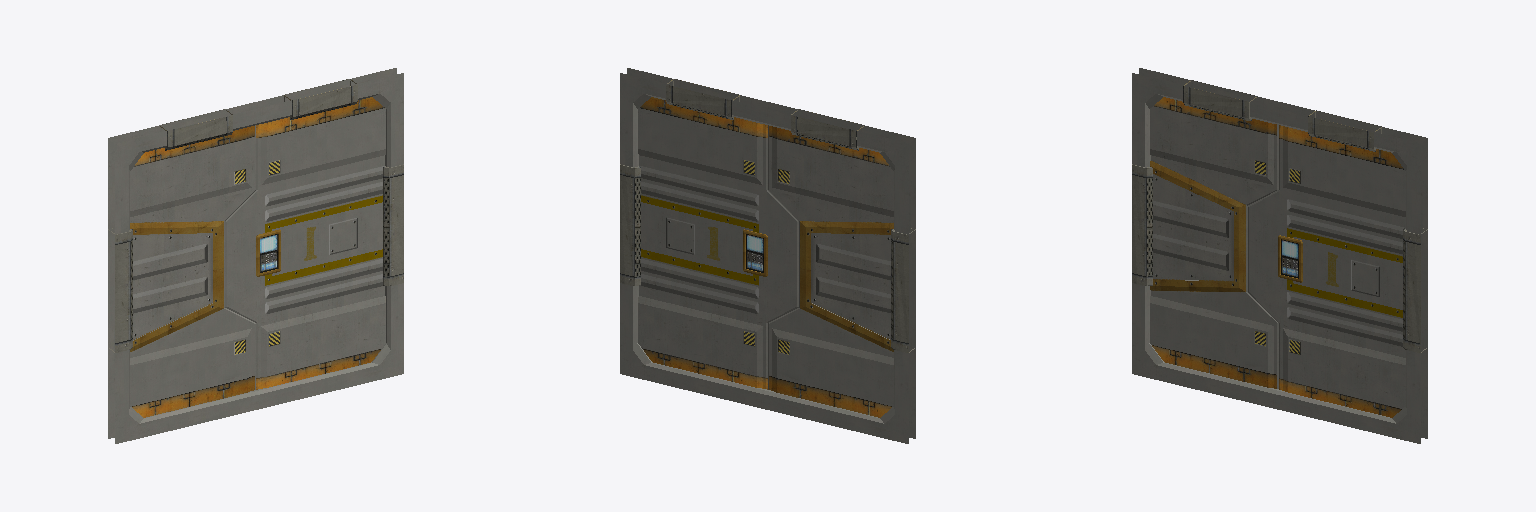
3 renders of one model, left to right at view 1: azimuth 30°, elevation 25°; view 2: azimuth 150°, elevation 25°; view 3: azimuth 330°, elevation 25°, orthographic.
Parts seen in each view (by area): view 1: door_part1_untitled.001, door_part2_untitled.002, door_borders_untitled; view 2: door_part1_untitled.001, door_part2_untitled.002, door_borders_untitled; view 3: door_part1_untitled.001, door_part2_untitled.002, door_borders_untitled.
Boxes of the visible parts, box(x1,y1,x2,y2) form: door_part1_untitled.001: box(225, 97, 385, 389); door_part2_untitled.002: box(130, 125, 255, 417); door_borders_untitled: box(108, 68, 403, 443); door_part1_untitled.001: box(638, 97, 798, 389); door_part2_untitled.002: box(768, 125, 893, 417); door_borders_untitled: box(620, 68, 915, 443); door_part1_untitled.001: box(1248, 125, 1405, 417); door_part2_untitled.002: box(1150, 97, 1278, 388); door_borders_untitled: box(1132, 68, 1427, 443).
Size of the model in its own units: 1 by 1 by 0.0499.
Materials: 1 (1 with a texture image).